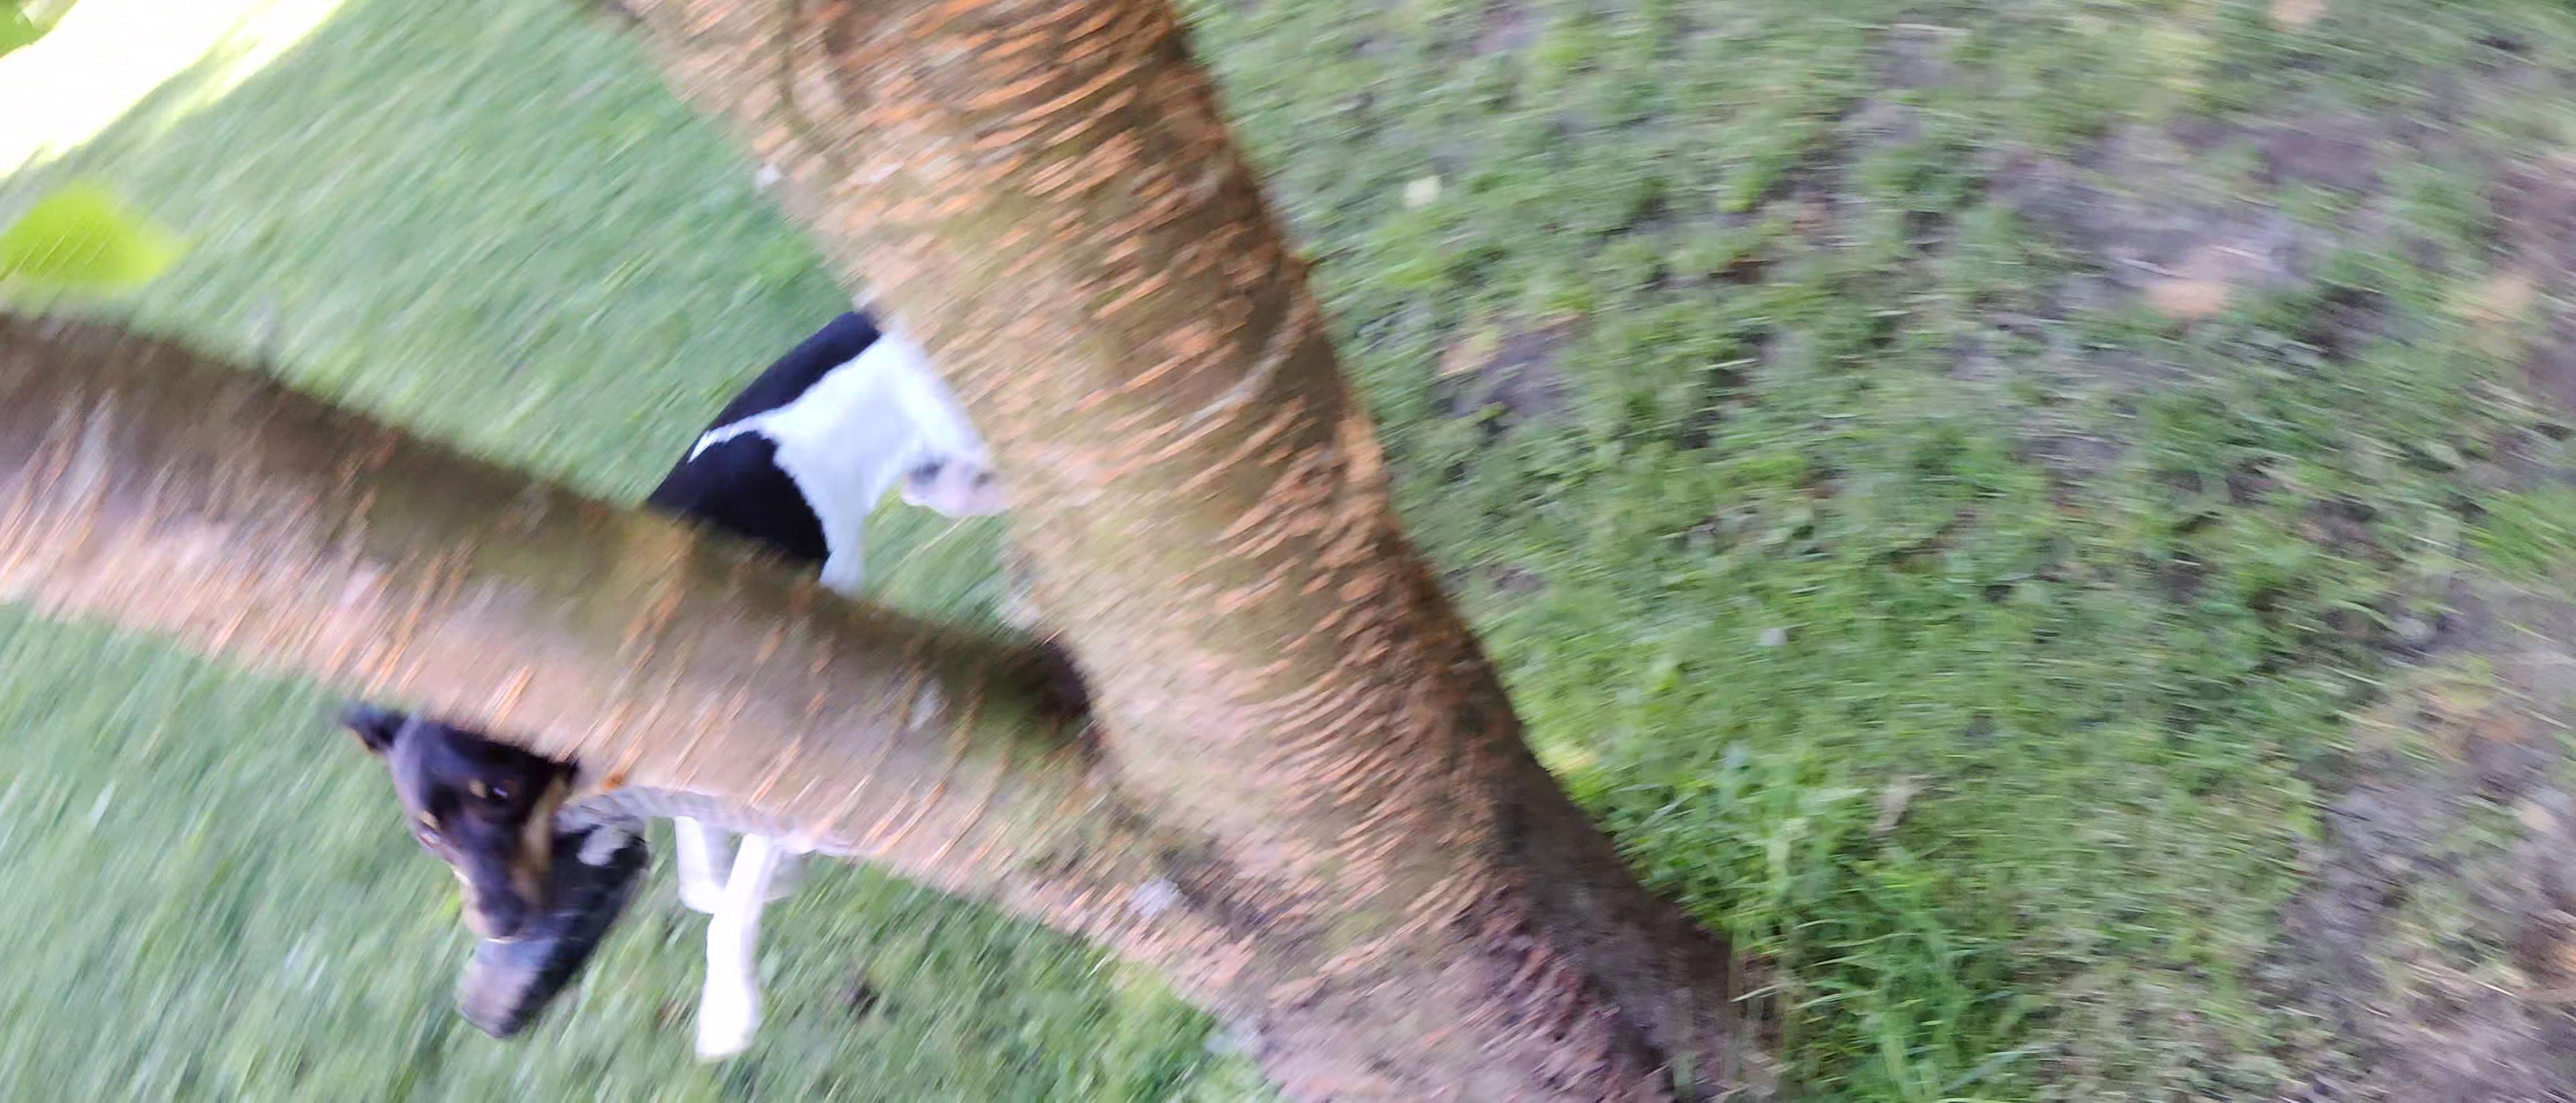Dog: (324, 293, 1063, 1072)
